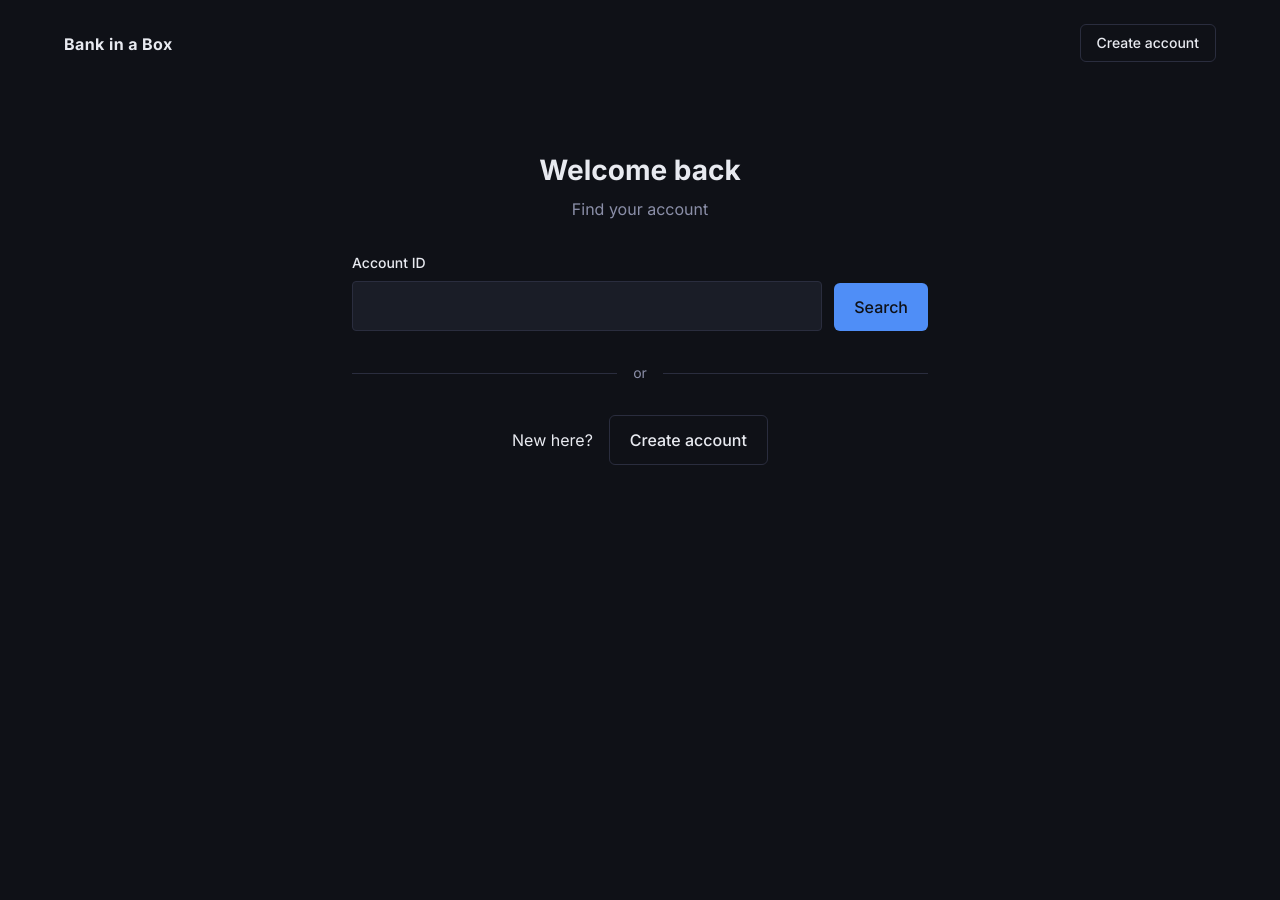
Test case: HomePage account creation › traps keyboard focus in the modal and restores it when Escape closes
This screenshot has width=1280, height=900.
Click the button "Create account" next to "New here?". click: (688, 440)
box: [609,415,768,465]
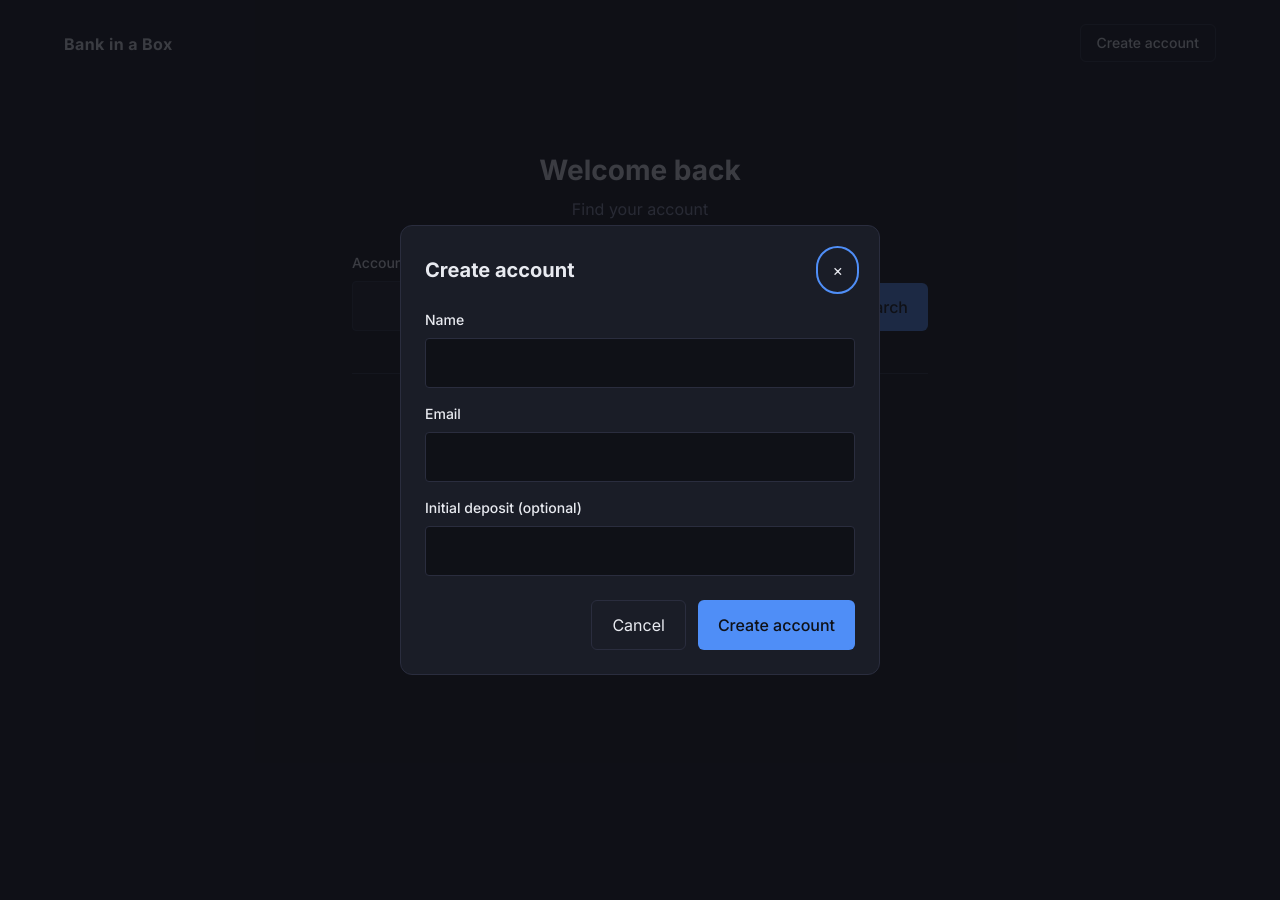
Press Tab in the button named "Close create account dialog", box [820,250,855,290]
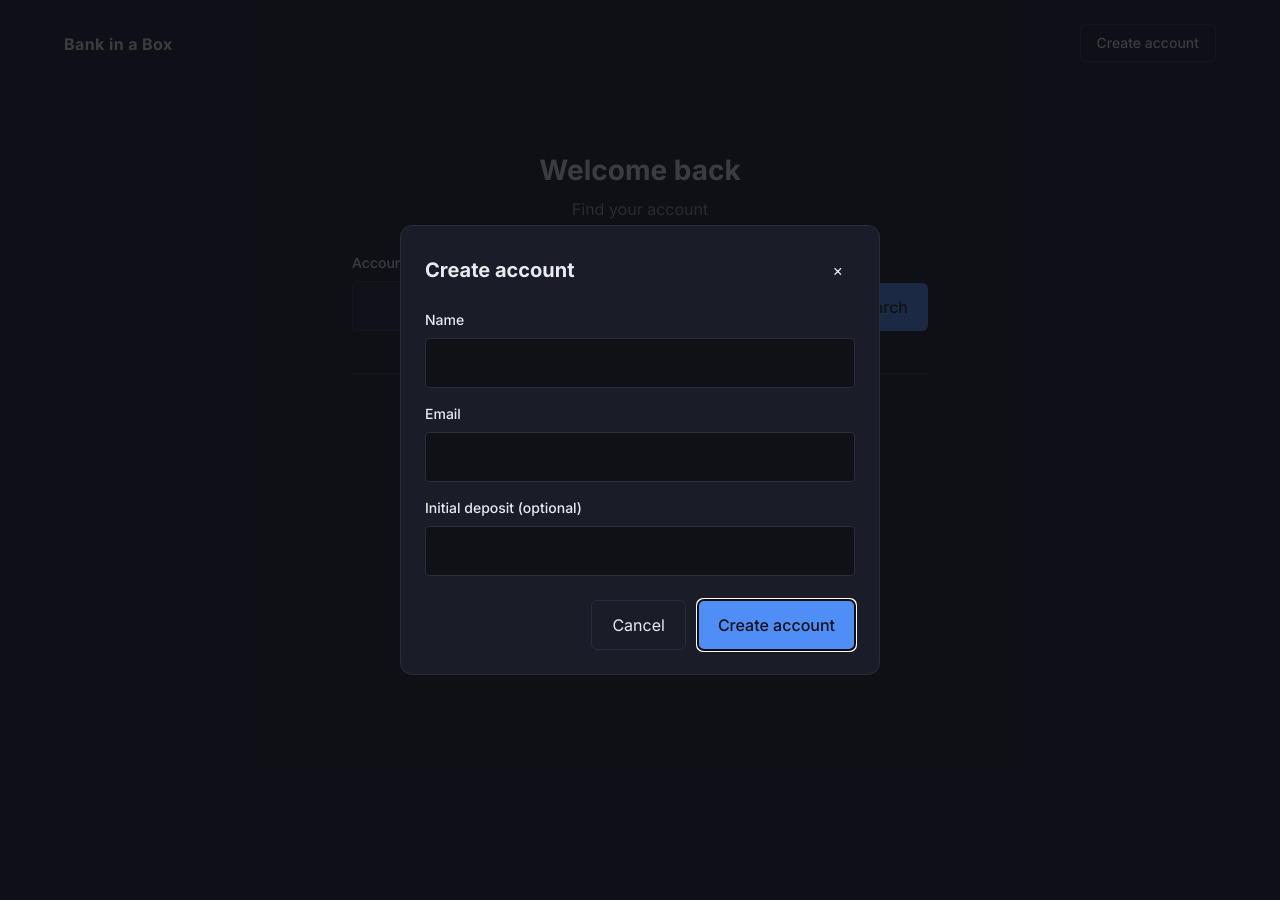
Press Tab in the button "Create account", box [698,600,855,650]
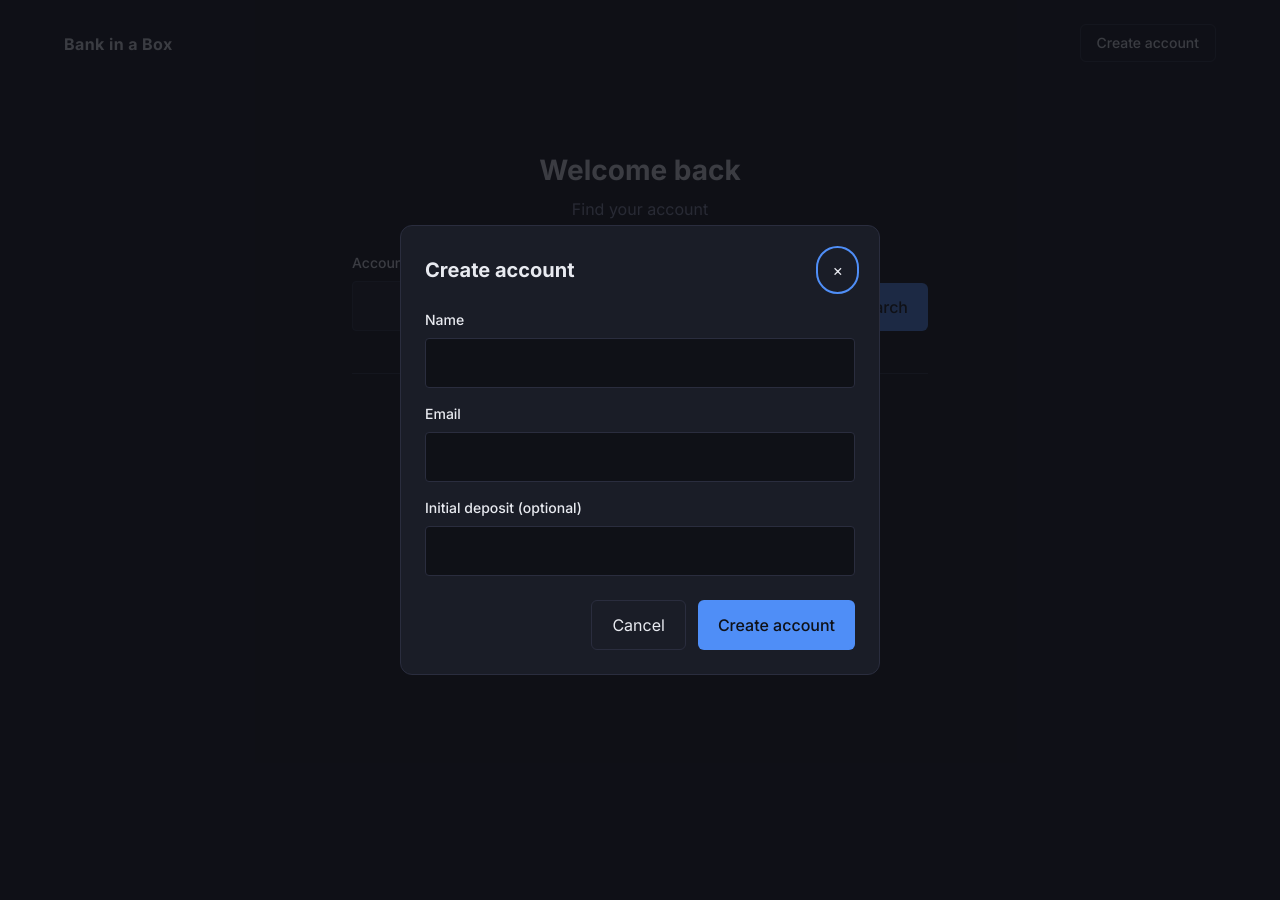
Press Escape in the button named "Close create account dialog", box [820,250,855,290]
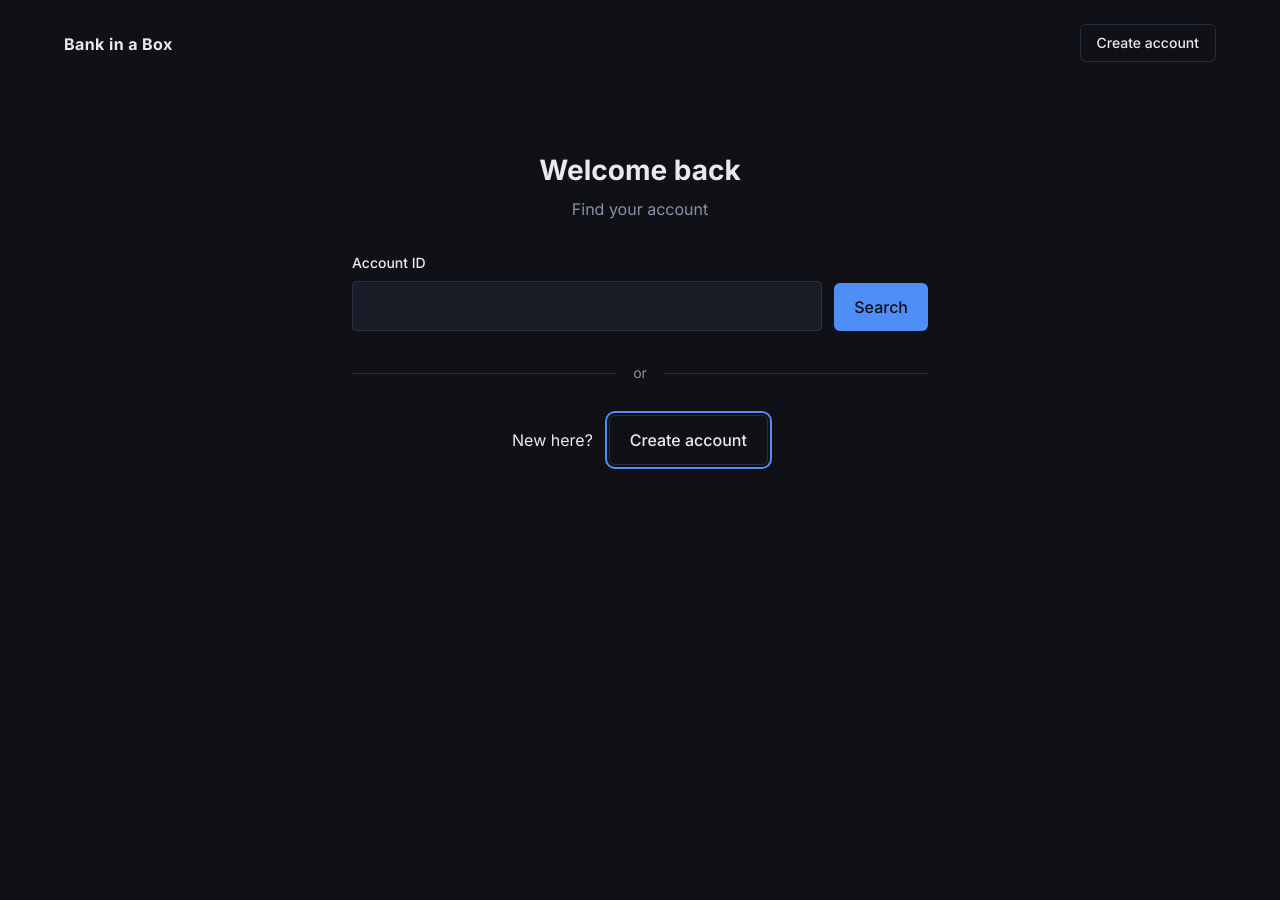
Expected: the dialog is gone
